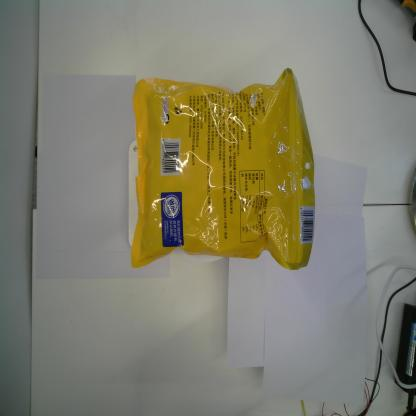Dried Food: (129, 64, 315, 270)
